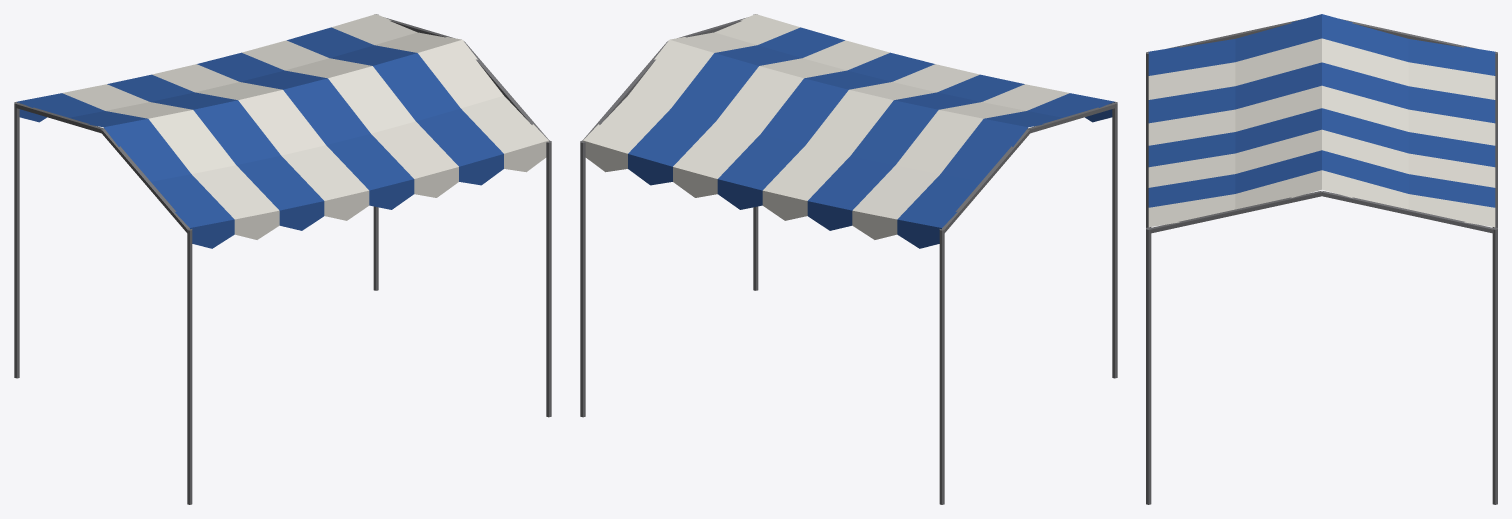
Rendered from awning.glb.
3 renders of one model, left to right at view 1: azimuth 30°, elevation 25°; view 2: azimuth 150°, elevation 25°; view 3: azimuth 270°, elevation 25°, orthographic.
Visible parts, largest first — view 1: awning; view 2: awning; view 3: awning.
Part boxes in pixels (box(x1,y1,x2,y2)): awning: box(14, 14, 551, 504); awning: box(580, 14, 1117, 504); awning: box(1146, 14, 1497, 504).
Size of the model in its own units: 3.04 by 2.5 by 2.54.
